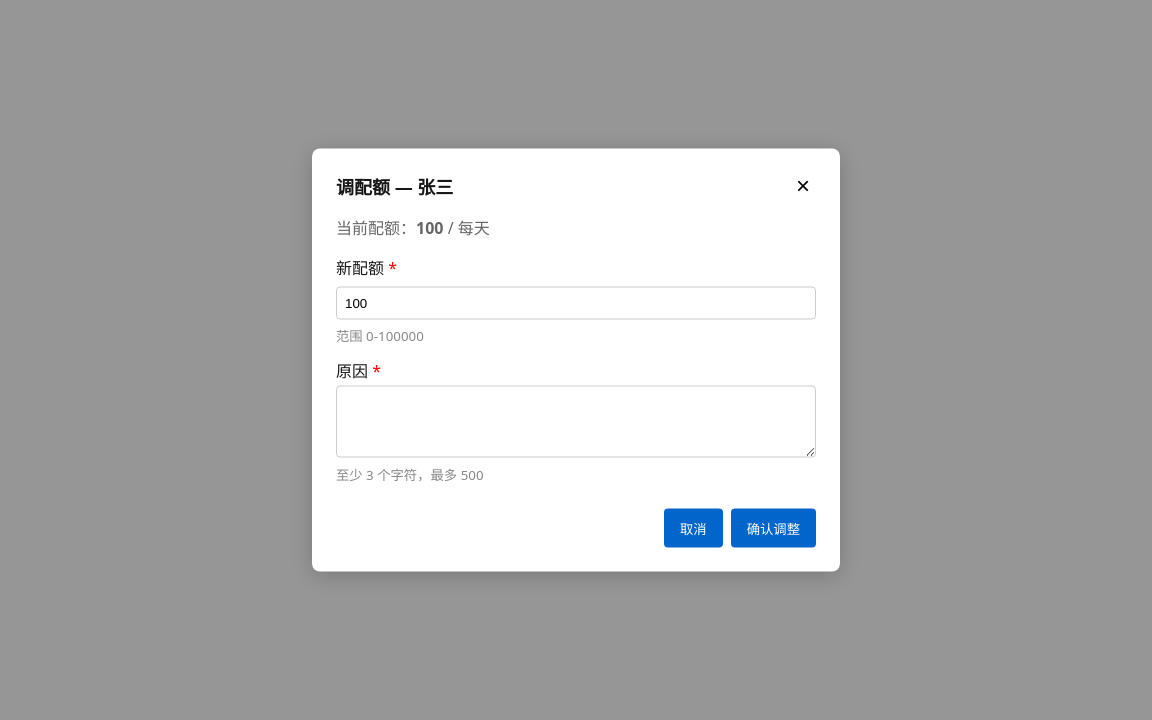
Test: QuotaModal (Sub-C Plan 2) › 4. new_quota out of range blocks submit
Replace the text in the number field with "999999": (576, 303) 336,286 -> 816,320
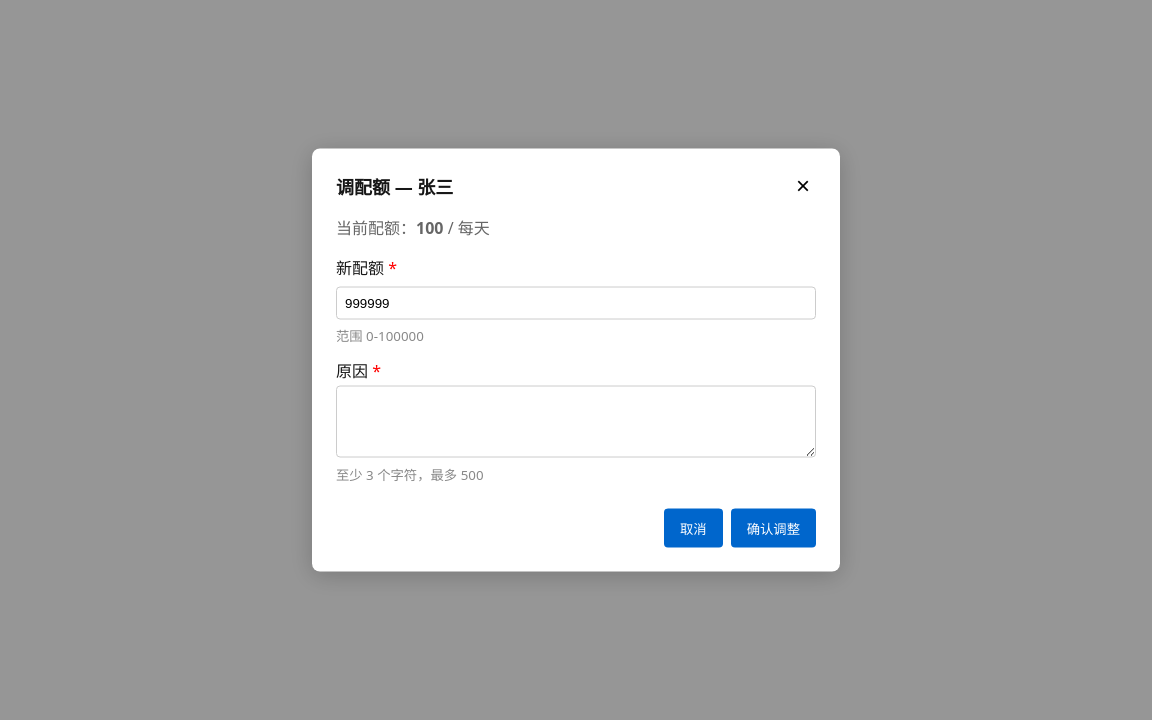
In the text box: (576, 422) 336,386 -> 816,458, type "test reason"
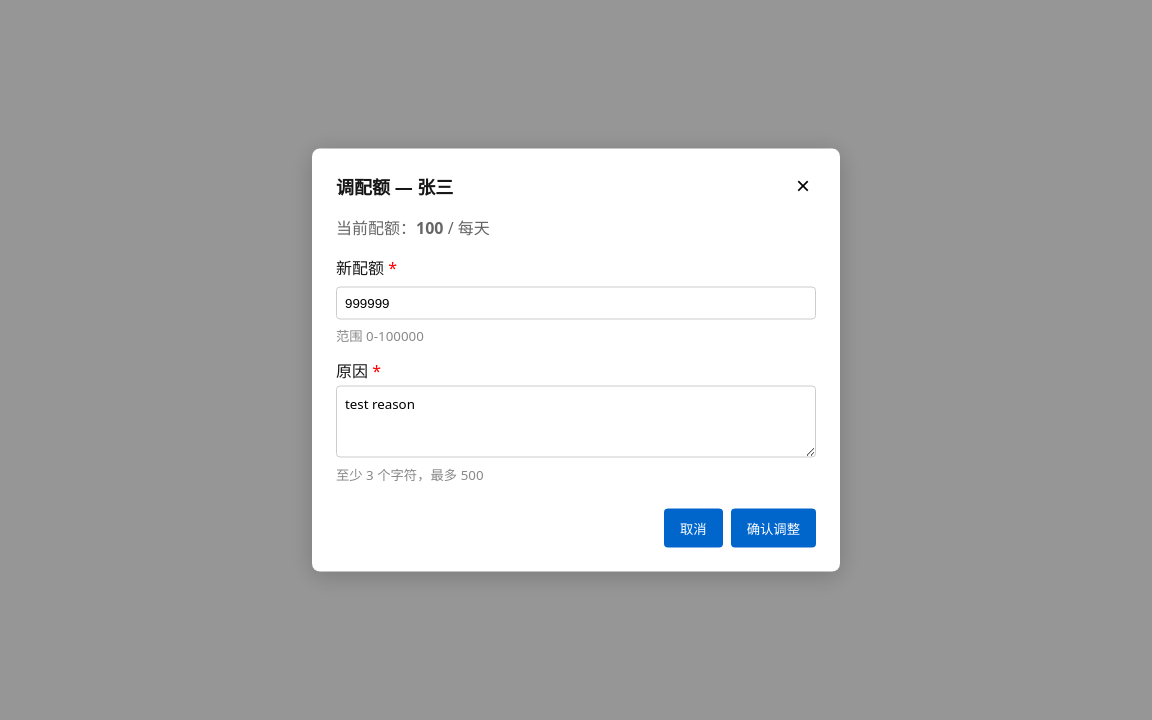
Click the button "确认调整": (773, 528) 731,508 -> 816,548
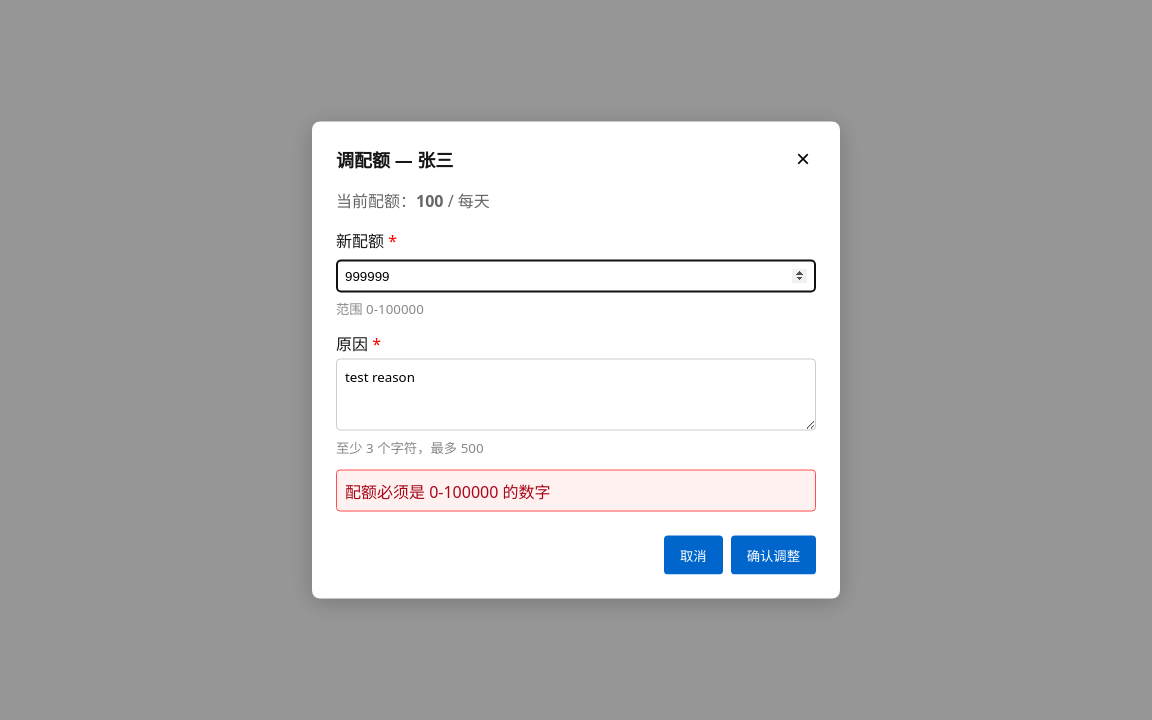
Check: the text "配额必须是 0-100000 的数字" is shown, box 336,470 -> 816,512
